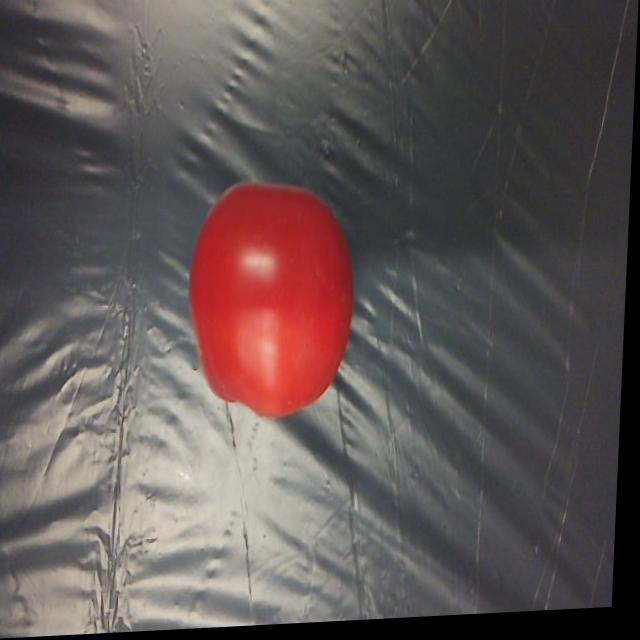kirmizi: (168, 159, 383, 447)
